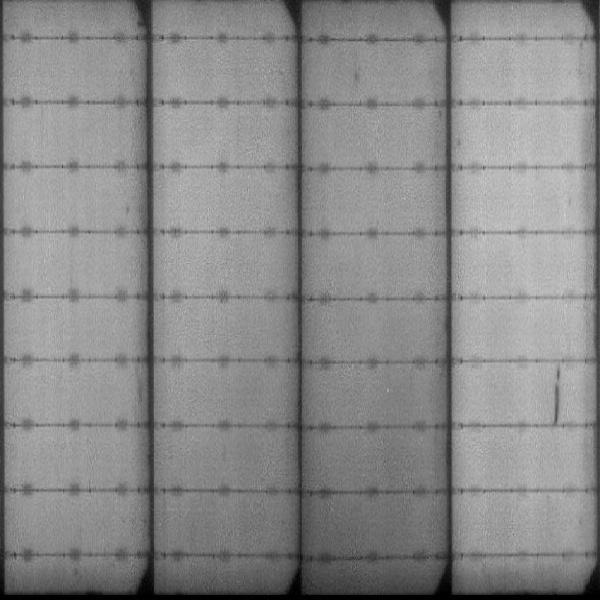scratch: (549, 365, 567, 425)
